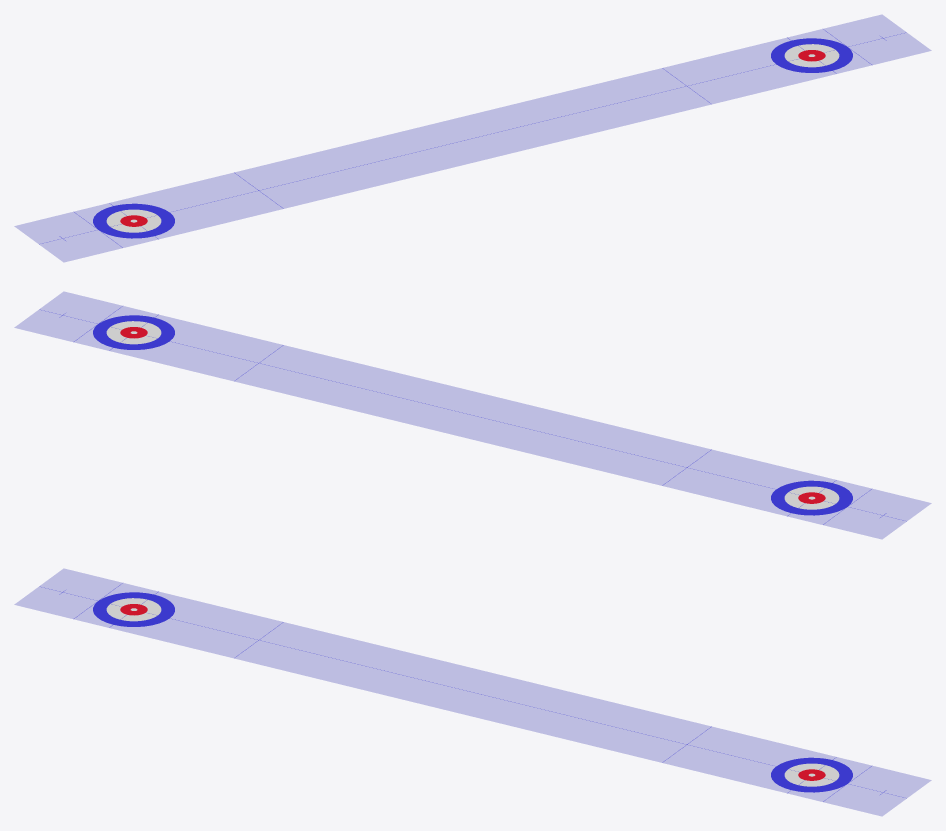
File: curling_sheet.fbx
3 renders of one model, top to bottom at view 1: azimuth 30°, elevation 25°; view 2: azimuth 150°, elevation 25°; view 3: azimuth 330°, elevation 25°, orthographic.
Visible parts, largest first — view 1: Plane, Circle.007, Circle.008, Circle.006, Circle.003; view 2: Plane, Circle.007, Circle.008, Circle.006, Circle.003; view 3: Plane, Circle.007, Circle.008, Circle.003, Circle.006.
Boxes of the visible parts, box(x1,y1,x2,y2) form: Plane: box(14, 14, 931, 262); Circle.007: box(93, 203, 174, 238); Circle.008: box(771, 38, 852, 72); Circle.006: box(106, 209, 161, 232); Circle.003: box(784, 44, 839, 67); Plane: box(14, 291, 931, 539); Circle.007: box(771, 480, 852, 515); Circle.008: box(93, 315, 174, 349); Circle.006: box(784, 486, 839, 509); Circle.003: box(106, 321, 161, 344); Plane: box(14, 568, 931, 816); Circle.007: box(93, 592, 174, 626); Circle.008: box(771, 757, 852, 792); Circle.003: box(784, 763, 839, 786); Circle.006: box(106, 598, 161, 621).
Size of the model in its own units: 4450 by 0.4268 by 442.
